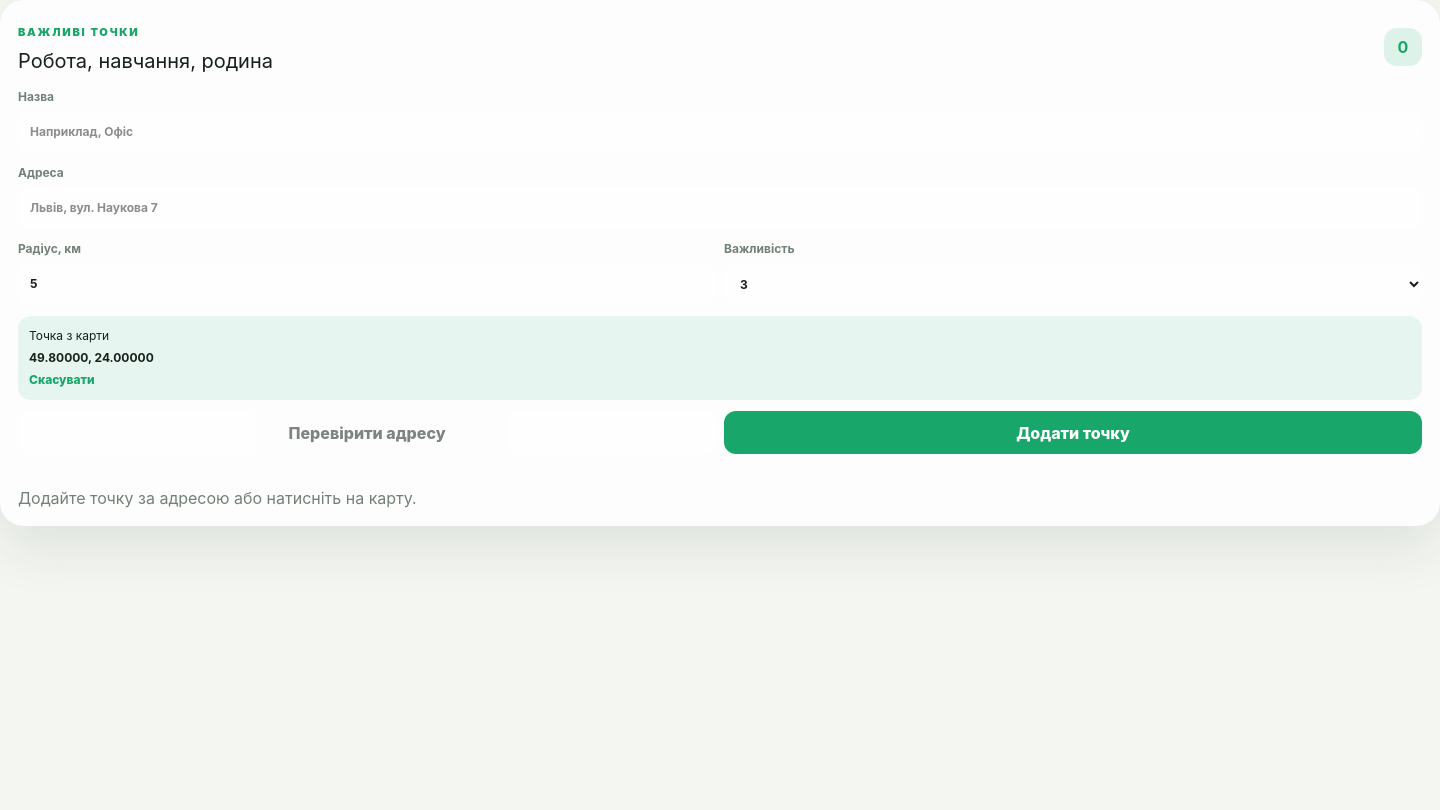
Test: ImportantPlacePanel › validates that a point has a name
Click the button "Додати точку": (1073, 432) x1=724 y1=411 x2=1422 y2=454
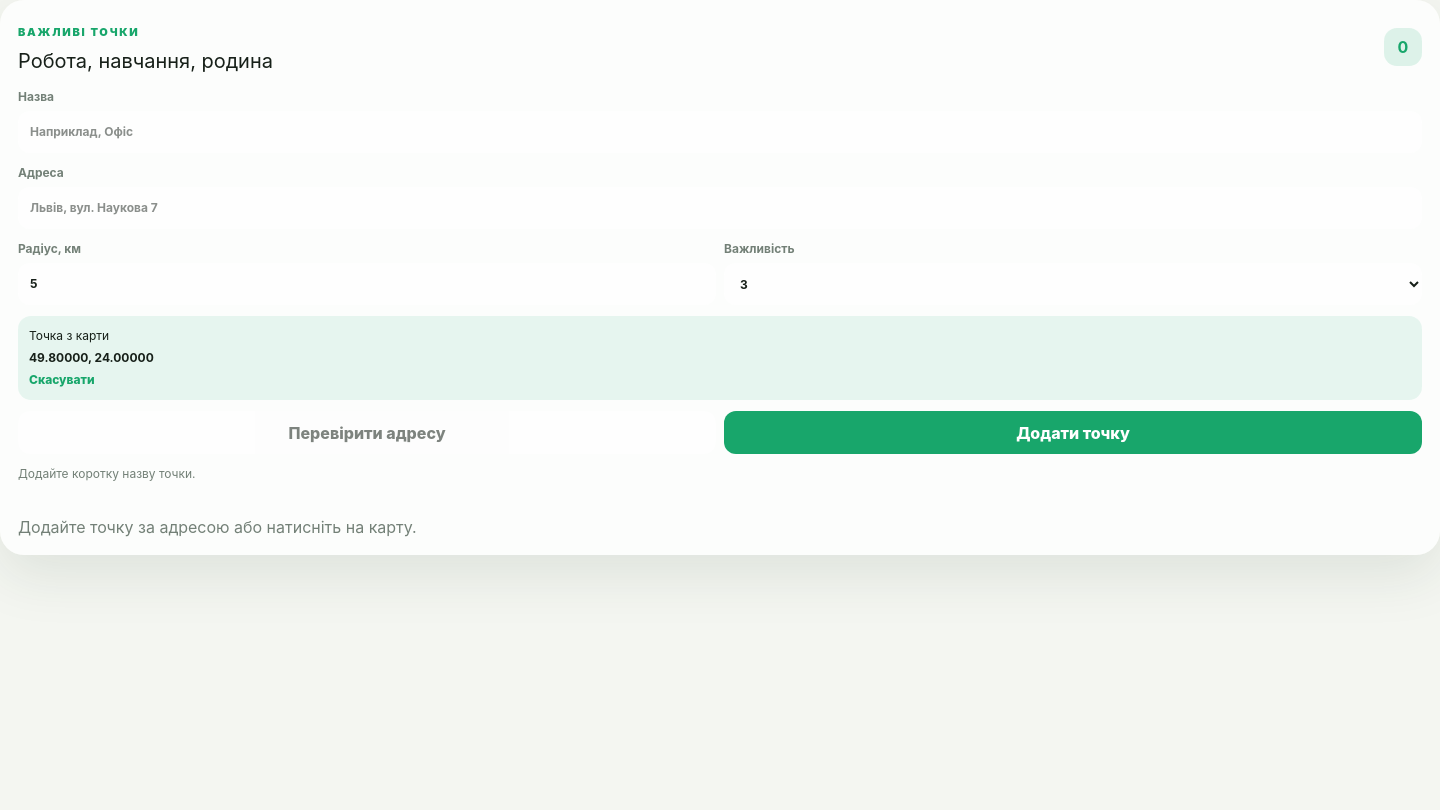
Check: the message shows "Додайте коротку назву точки", box x1=18 y1=466 x2=196 y2=481
